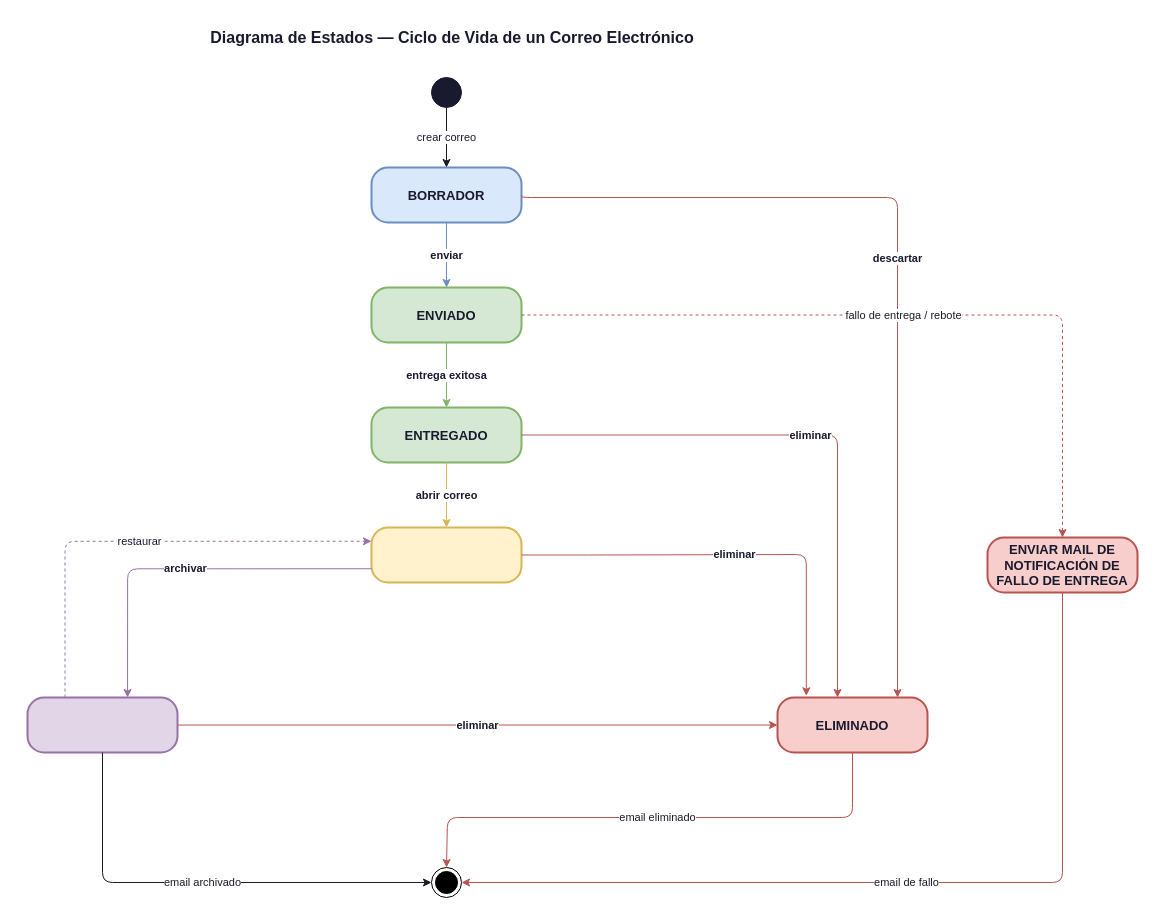
Some shapes in this 1155 by 915 pixel diagram are drawn without their labels. Each missing label, with the centre of its shape:
"ARCHIVADO" belongs at pixel 102 724.
"LEÍDO" belongs at pixel 446 554.
